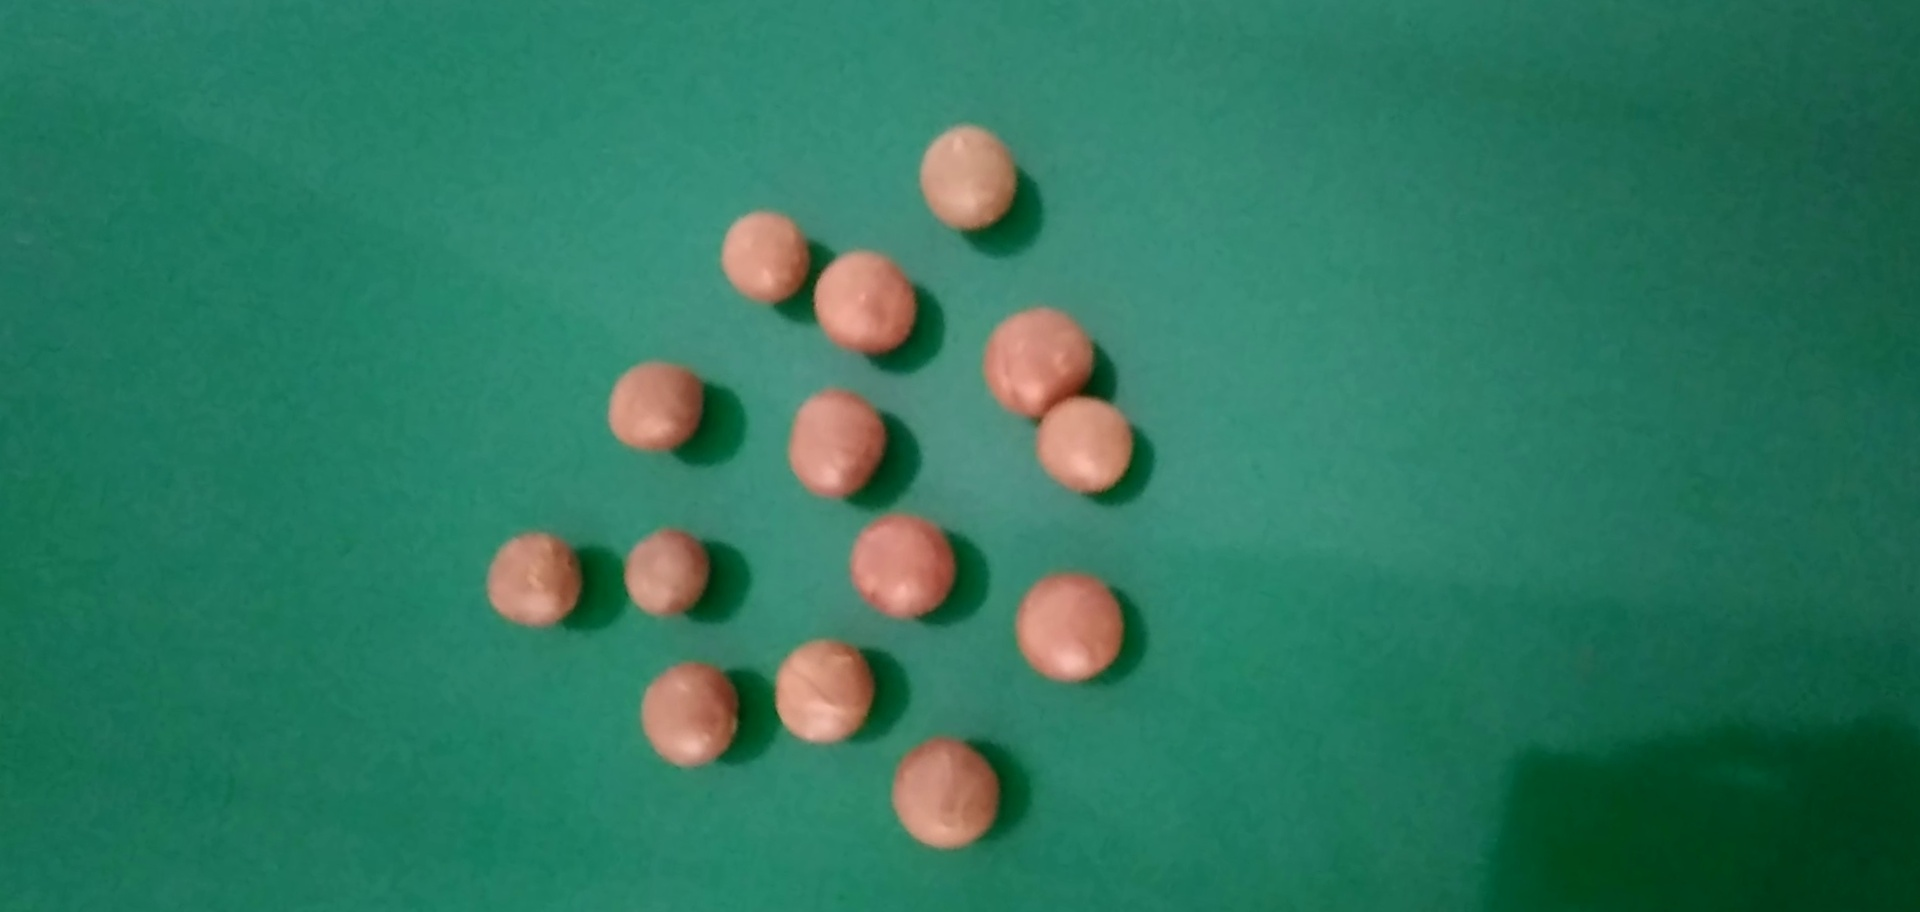mac: (883, 727, 1013, 857), (1002, 561, 1130, 688), (975, 299, 1096, 424), (631, 652, 748, 779), (765, 626, 880, 752), (834, 514, 959, 629), (775, 382, 887, 504), (909, 120, 1021, 237), (709, 200, 819, 312), (598, 346, 710, 457), (479, 525, 590, 630), (611, 518, 715, 626), (1029, 389, 1133, 497), (809, 247, 918, 350)
